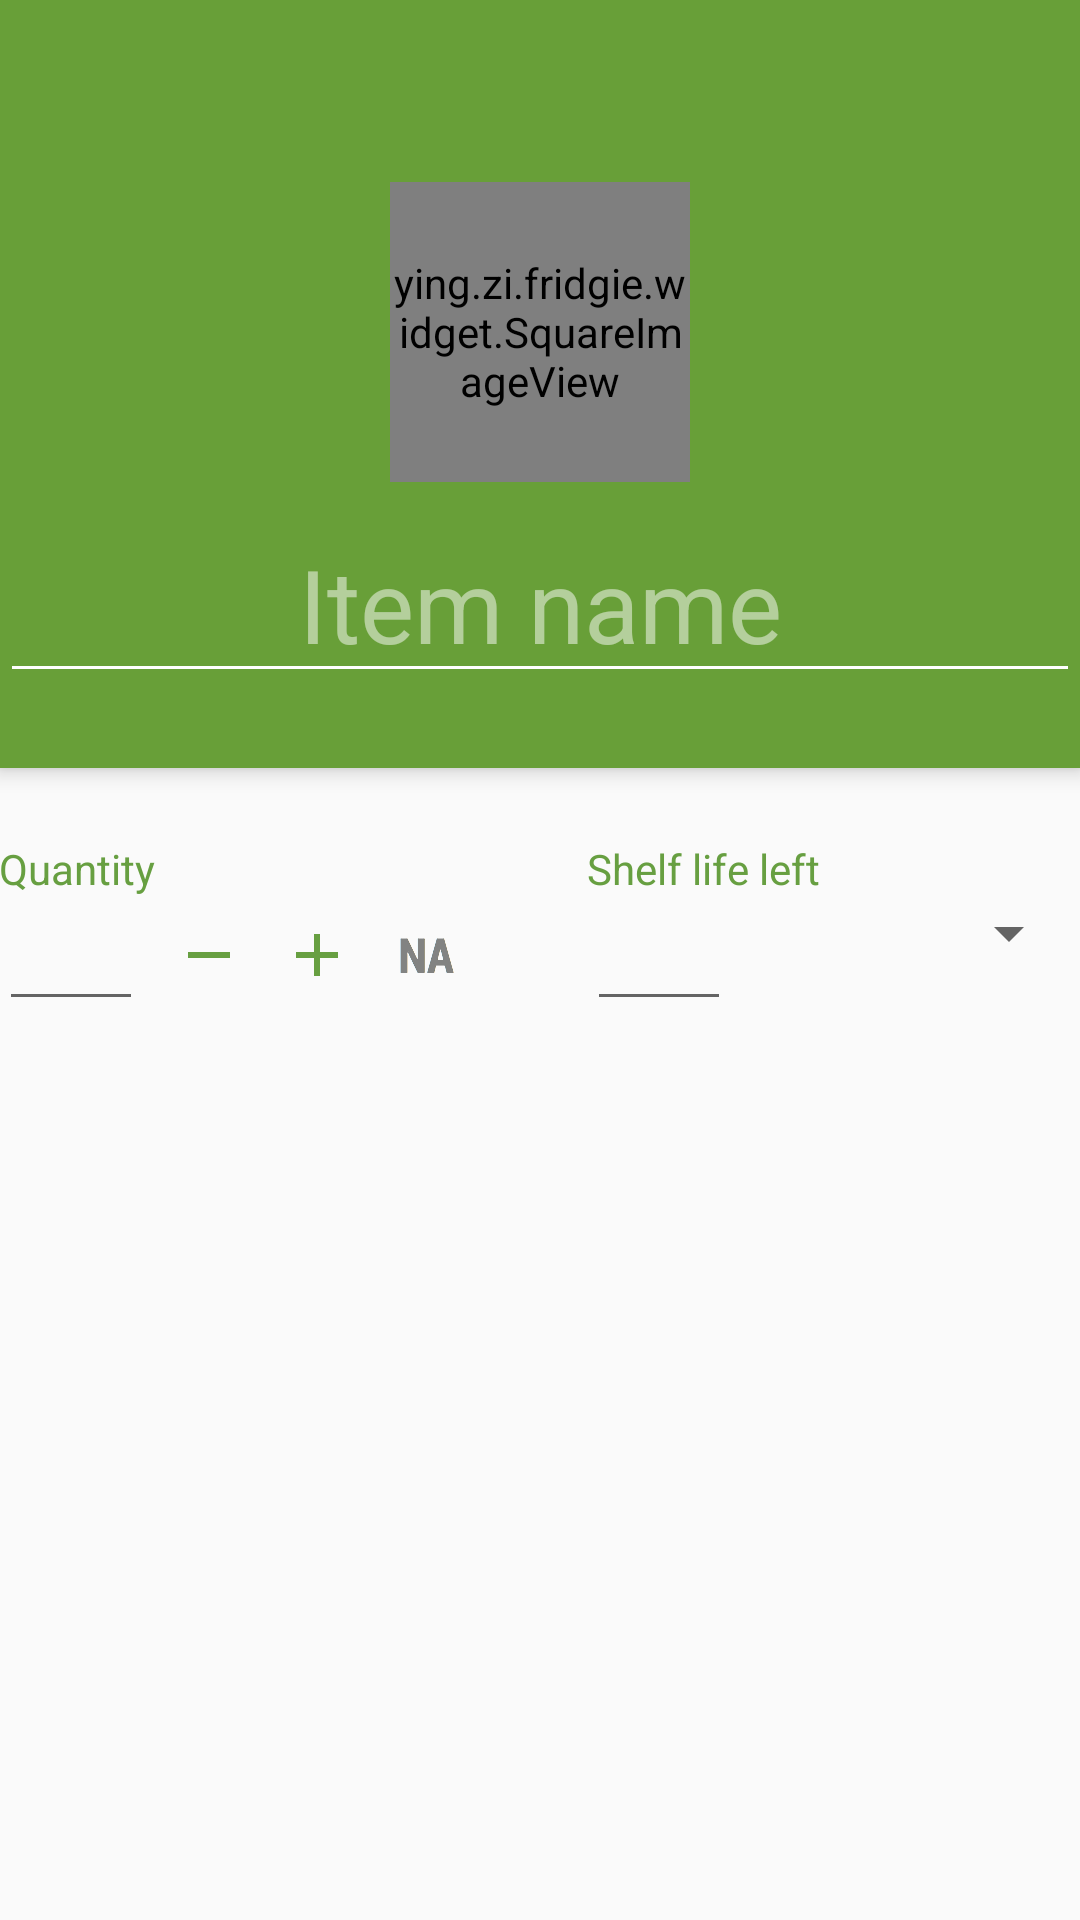

Where to tap for icons on this 1080×1920 app screen, as point (x, y):
add: point (317, 955)
